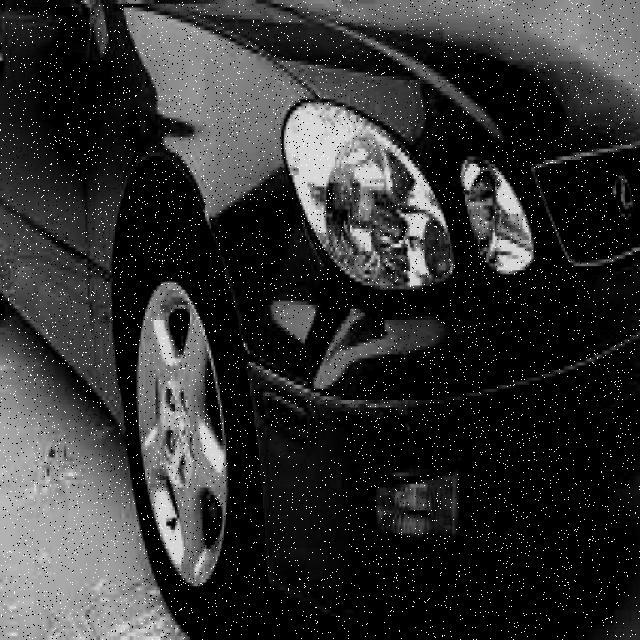car damage: (213, 166, 427, 441)
